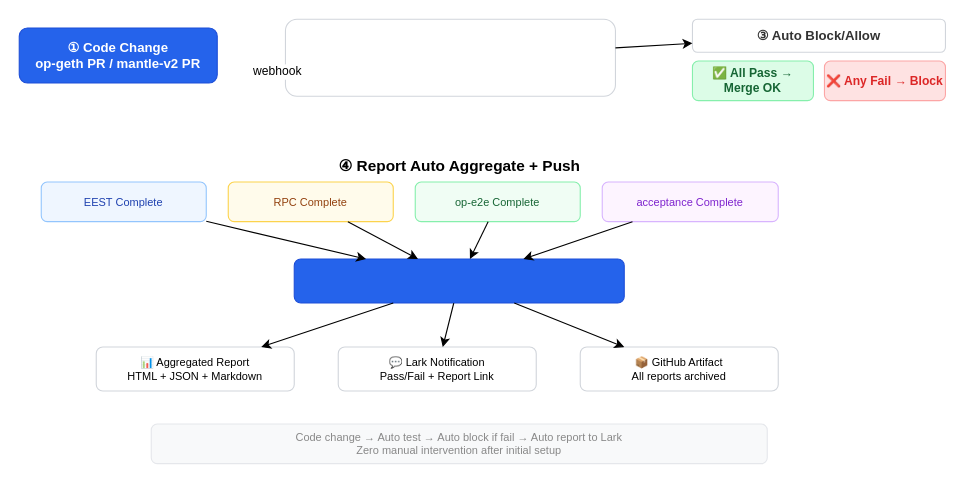
Image size: 965x483. Some labels were removed from this diagram. The centre of each missing label's shape, as x and y in pixels:
Report Aggregator (mantle-test-v1 CI): (x=458, y=280)
② Auto Trigger Tests EEST CI · RPC CI · op-e2e CI · acceptance CI (各仓库独立跑): (x=449, y=57)
